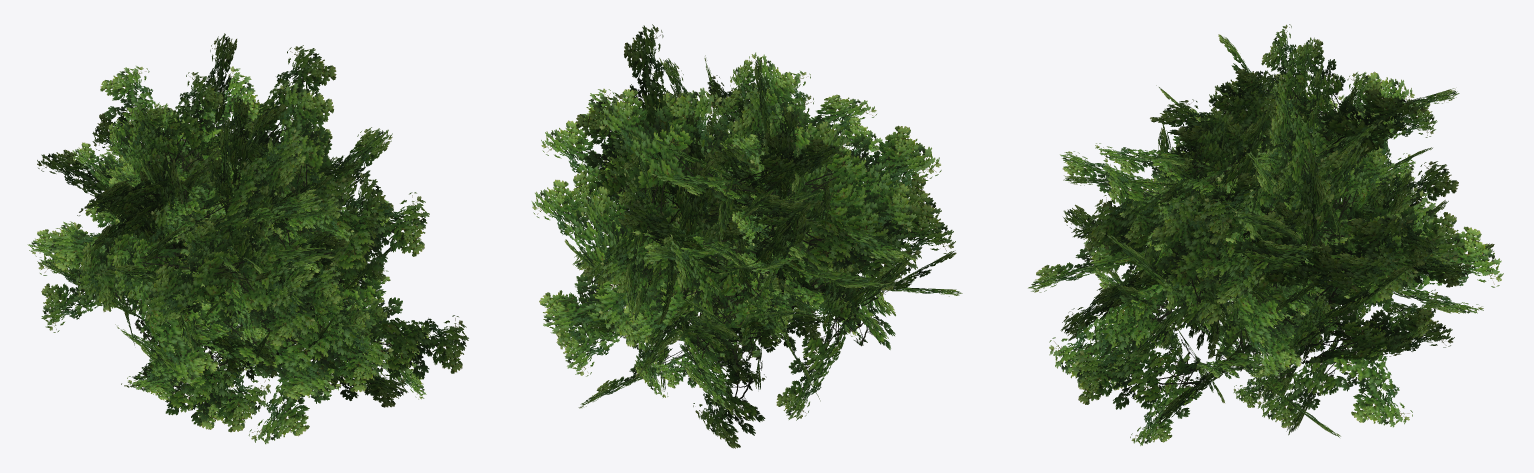
Rendered from bush.glb.
The picture shows the model from 3 angles, left to right: view 1: azimuth 30°, elevation 25°; view 2: azimuth 150°, elevation 25°; view 3: azimuth 270°, elevation 25°; orthographic projection. The views are drawn at different scales.
Visible parts, largest first — view 1: Leaves.075, Leaves.071, Leaves.088, Leaves.230, Leaves.069, Leaves.065, Leaves.129, Leaves.255, Leaves.197, Leaves.222, Leaves.021, Leaves.189 (+62 smaller); view 2: Leaves.172, Leaves.286, Leaves.047, Leaves.024, Leaves.217, Leaves.239, Leaves.124, Leaves.098, Leaves.176, Leaves.222, Leaves.142, Leaves.051 (+69 smaller); view 3: Leaves.088, Leaves.093, Leaves.257, Leaves.132, Leaves.286, Leaves.258, Leaves.076, Leaves.262, Leaves.030, Leaves.106, Leaves.032, Leaves.194 (+77 smaller).
Part boxes in pixels (x1,y1,x2,y2): Leaves.075: (291,192,429,279); Leaves.071: (259,305,393,391); Leaves.088: (365,315,468,379); Leaves.230: (143,355,270,432); Leaves.069: (144,243,252,323); Leaves.065: (223,314,342,399); Leaves.129: (193,133,301,222); Leaves.255: (275,82,330,193); Leaves.197: (225,256,315,345); Leaves.222: (246,45,336,158); Leaves.021: (160,72,223,165); Leaves.189: (46,228,189,286); Leaves.172: (788,125,935,208); Leaves.286: (599,89,712,198); Leaves.047: (771,212,921,290); Leaves.024: (627,87,725,243); Leaves.217: (576,92,652,214); Leaves.239: (809,202,955,261); Leaves.124: (539,268,679,337); Leaves.098: (531,179,647,282); Leaves.176: (776,306,859,420); Leaves.222: (624,24,669,178); Leaves.142: (693,363,765,448); Leaves.051: (808,169,916,235); Leaves.088: (1073,345,1208,409); Leaves.093: (1304,308,1454,363); Leaves.257: (1152,195,1216,308); Leaves.132: (1326,311,1412,427); Leaves.286: (1320,89,1428,167); Leaves.258: (1238,281,1301,376); Leaves.076: (1074,279,1180,390); Leaves.262: (1228,231,1356,293); Leaves.030: (1257,341,1351,427); Leaves.106: (1327,207,1464,265); Leaves.032: (1318,214,1415,318); Leaves.194: (1049,292,1172,389).
Size of the model in its own units: 2.33 by 2.39 by 2.63.
Materials: 1 (1 with a texture image).
